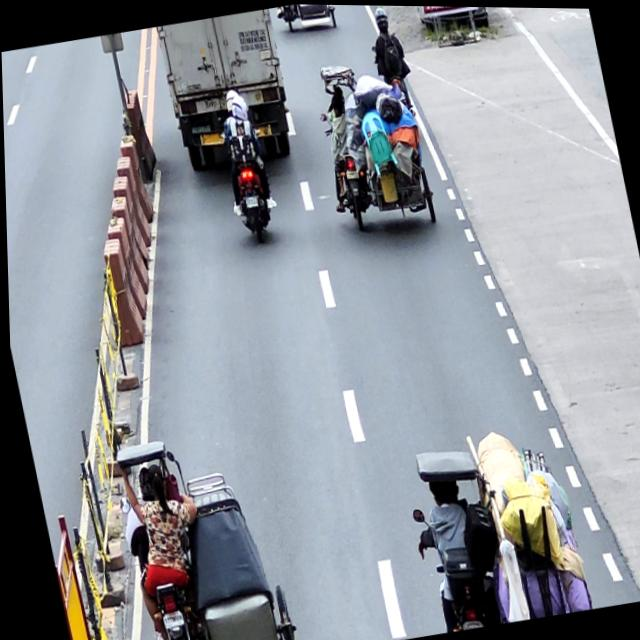License-Plate: (158, 610, 180, 627), (243, 194, 257, 207), (344, 167, 358, 178)
Motorcycle: (218, 125, 281, 245), (369, 37, 415, 121)
Tricycle: (104, 423, 297, 640), (398, 427, 589, 634), (309, 52, 438, 238), (280, 3, 340, 35)
Truck: (154, 6, 301, 176)
